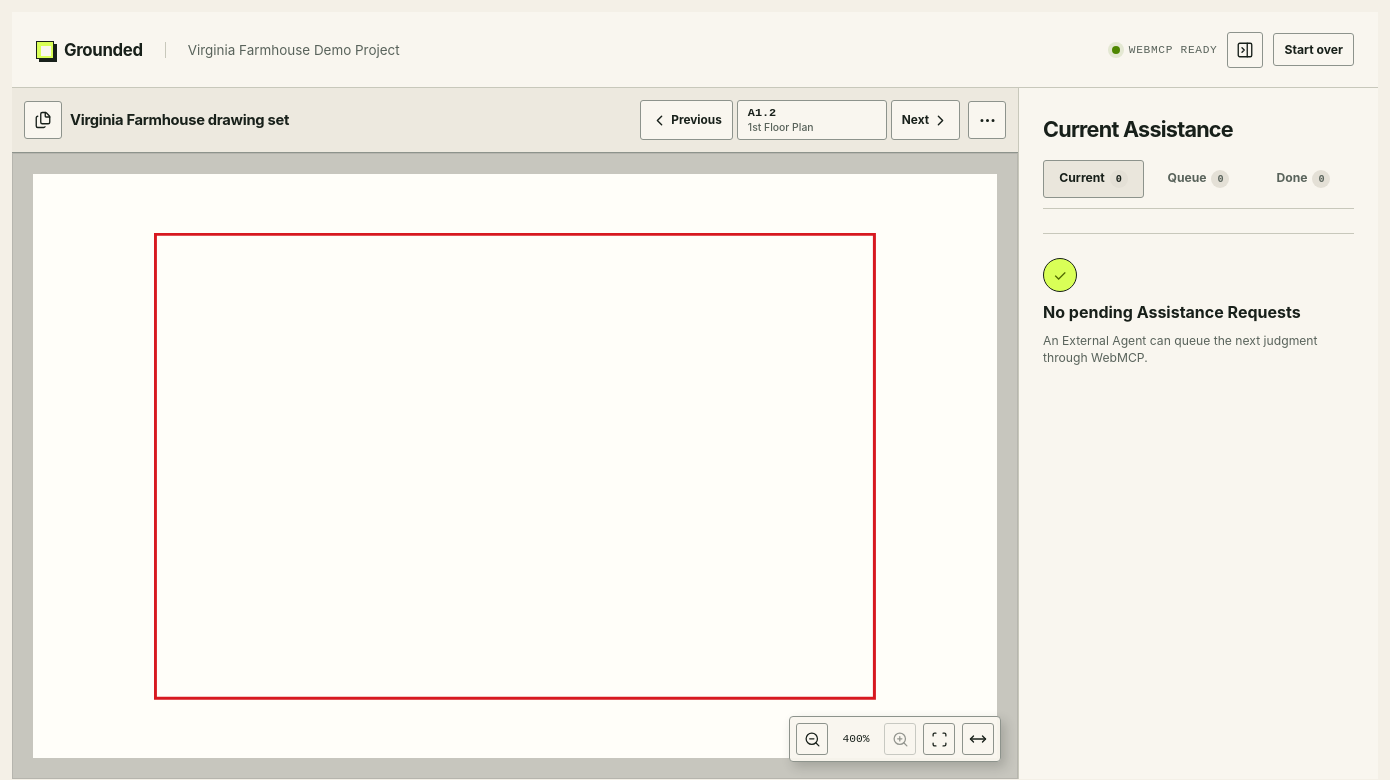
Test case: Document Focus survives idempotence, yields cleanly to the user, and is not restored after reload
Expected: the element with class "document-focus-outline" is shown, [154,232,876,700]
Expected: the text "WebMCP ready" is shown, [1129,44,1217,56]
Step 1. Click the button named "Zoom out" → (812,739), box [796,723,828,755]
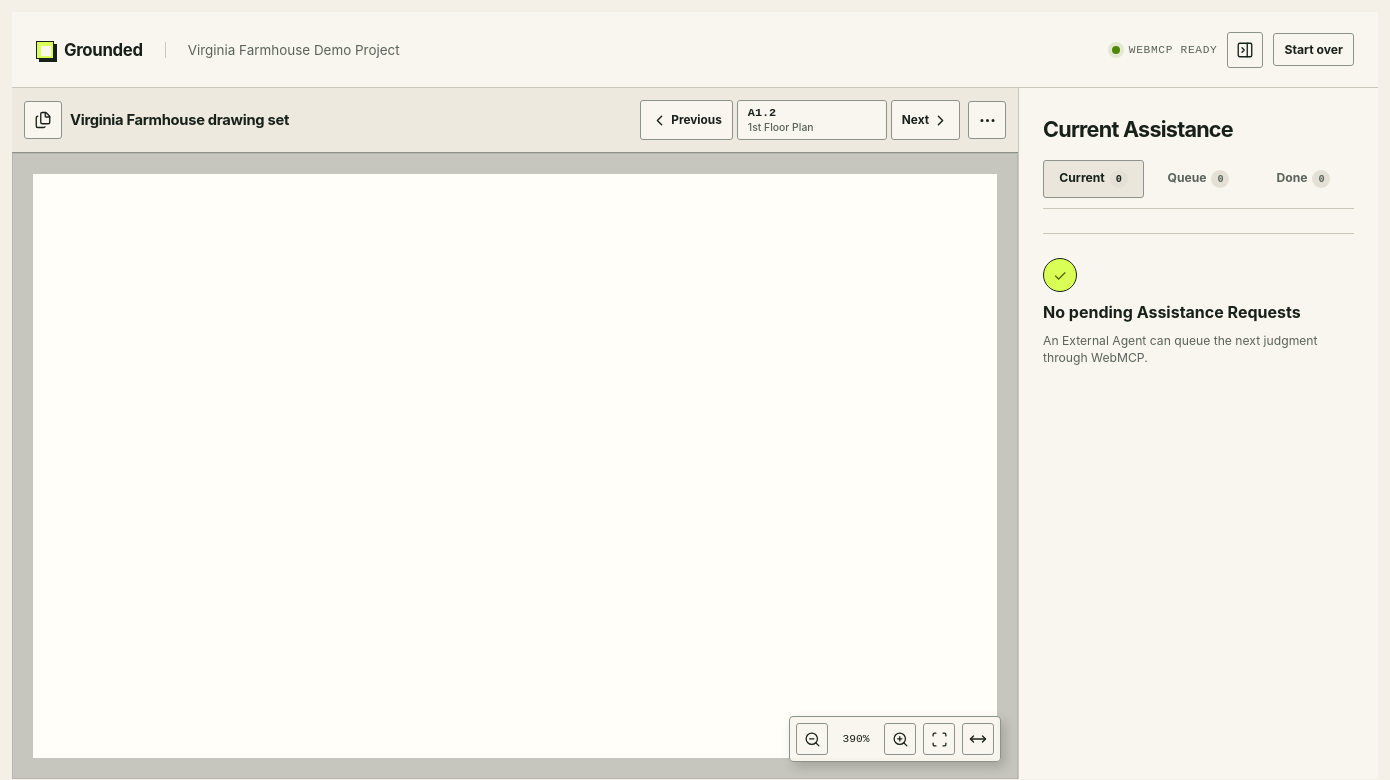
Expected: the text "390%" is shown, [843,733,870,745]
Expected: the element with class "document-focus-outline" is gone
